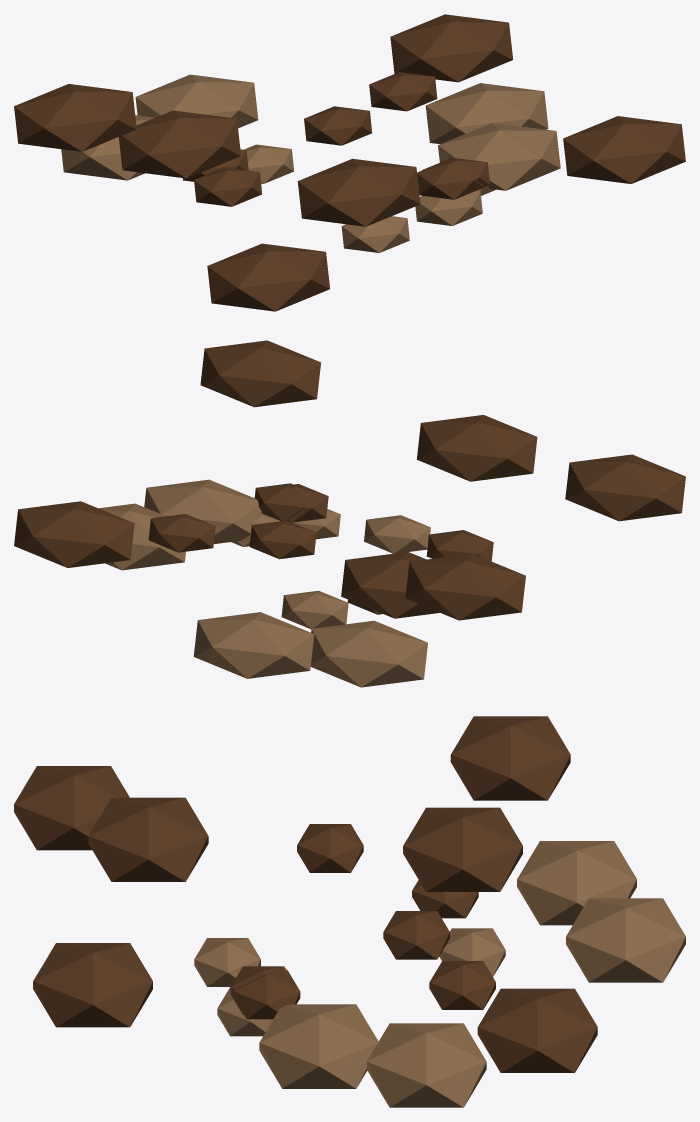
Rendered from Proc_DriedMushroom.fbx.
3 renders of one model, top to bottom at view 1: azimuth 30°, elevation 25°; view 2: azimuth 150°, elevation 25°; view 3: azimuth 270°, elevation 25°, orthographic. The views are drawn at different scales.
Visible parts, largest first — view 1: Proc_DriedMushroom__Stack, Proc_DriedMushroom; view 2: Proc_DriedMushroom__Stack, Proc_DriedMushroom; view 3: Proc_DriedMushroom__Stack, Proc_DriedMushroom.
Boxes of the visible parts, left/top/right/bottom form: Proc_DriedMushroom__Stack: left=14, top=14, right=685, bottom=311; Proc_DriedMushroom: left=182, top=72, right=495, bottom=252; Proc_DriedMushroom__Stack: left=14, top=340, right=685, bottom=687; Proc_DriedMushroom: left=148, top=483, right=493, bottom=628; Proc_DriedMushroom__Stack: left=14, top=716, right=685, bottom=1107; Proc_DriedMushroom: left=194, top=824, right=505, bottom=1036.
Bounding box in the file's own units: 0.127 × 0.0288 × 0.1201.
